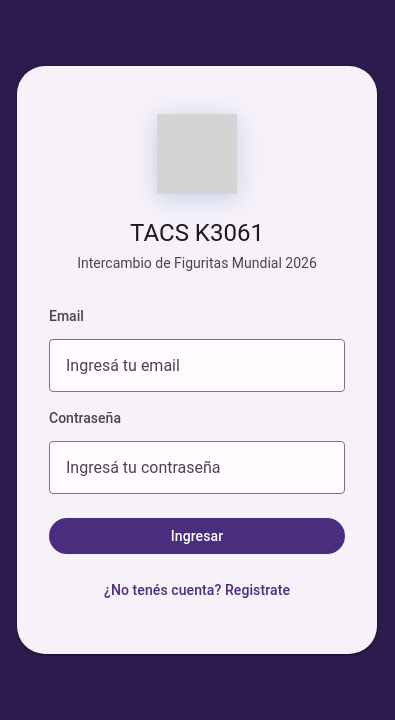
Test: LoginPage — render inicial › toggle a modo register muestra el campo de confirmar contraseña
Click the button "¿No tenés cuenta? Registrate". click: point(197, 590)
box: [88,574,306,606]
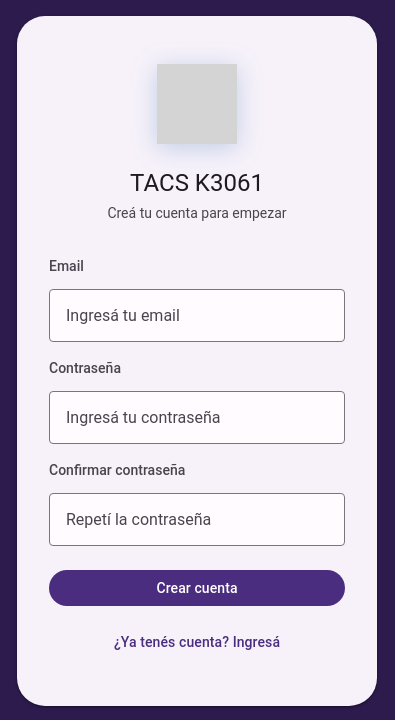
Now the button "Crear cuenta" is shown, box [49,570,345,606]
Now the password field with placeholder "Repetí la contraseña" is shown, box [49,493,345,546]
